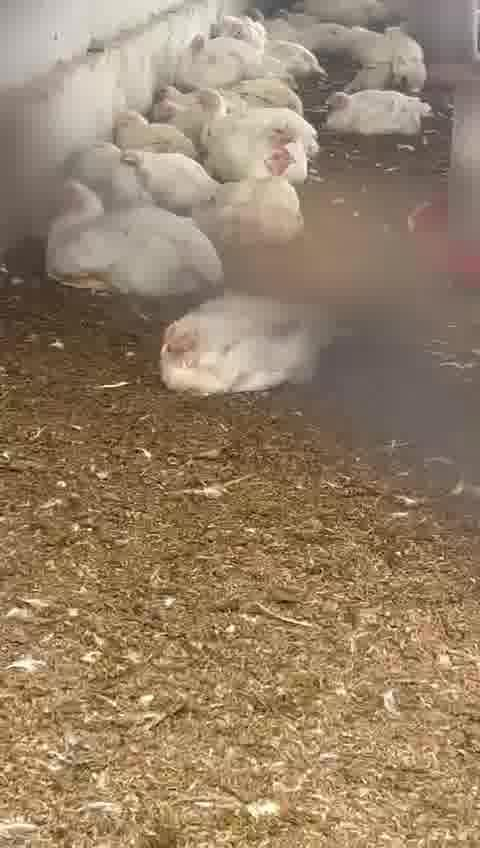AbNormal: (46, 176, 223, 305), (150, 290, 338, 403), (70, 134, 208, 203), (109, 98, 193, 155), (144, 74, 199, 126)
Normal: (216, 145, 314, 241), (183, 88, 310, 157), (300, 76, 435, 136)
